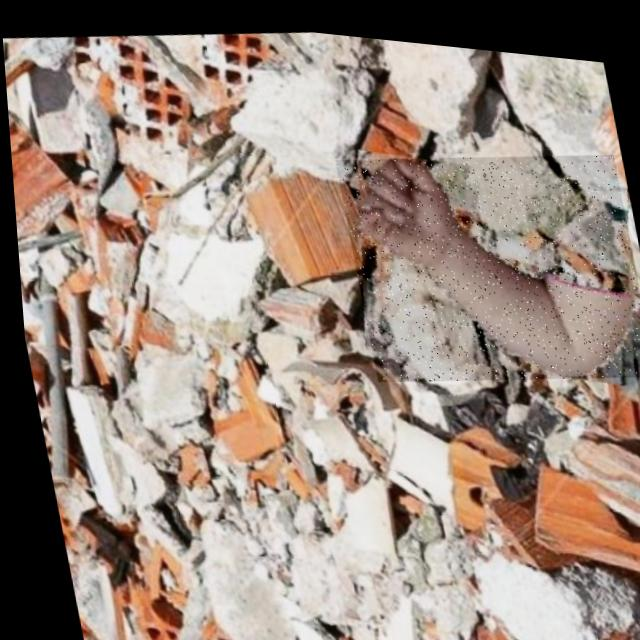Person in Rubble: (330, 117, 640, 396)
